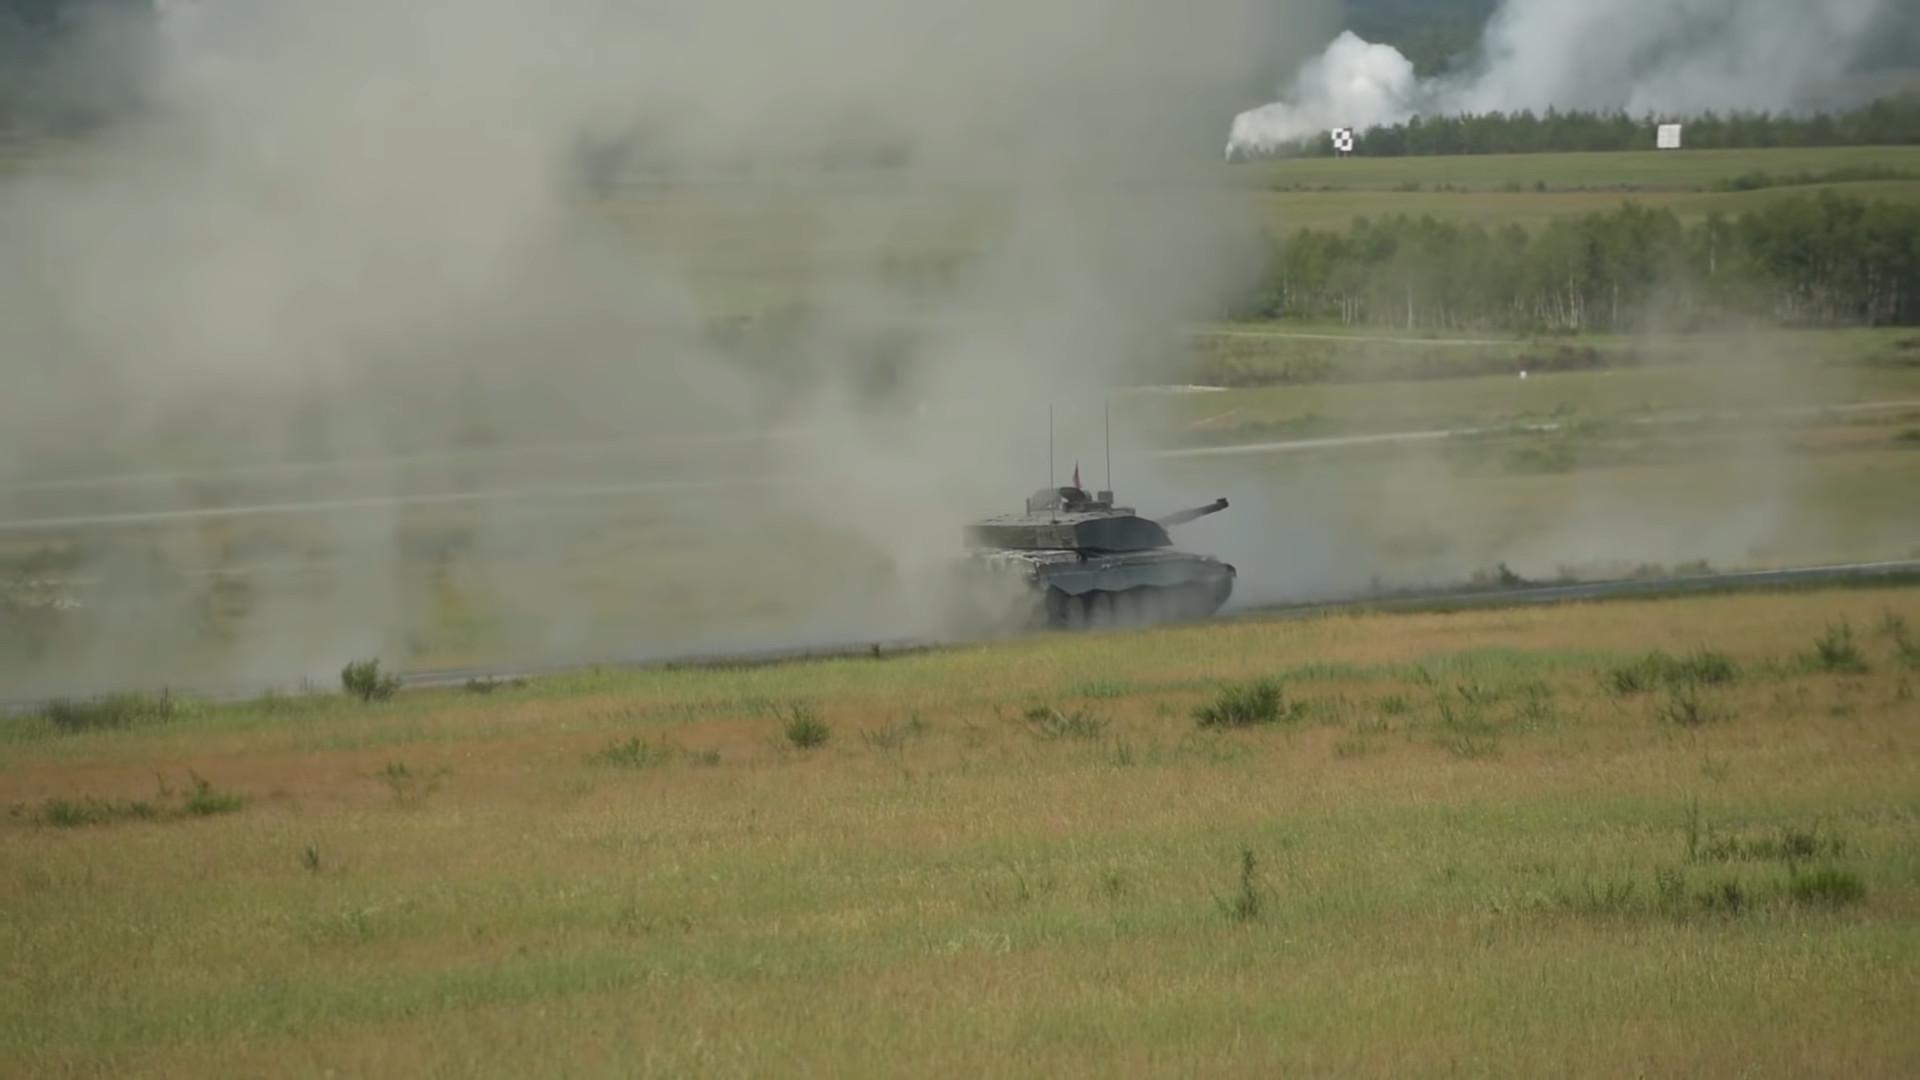tank: (963, 487, 1237, 630)
